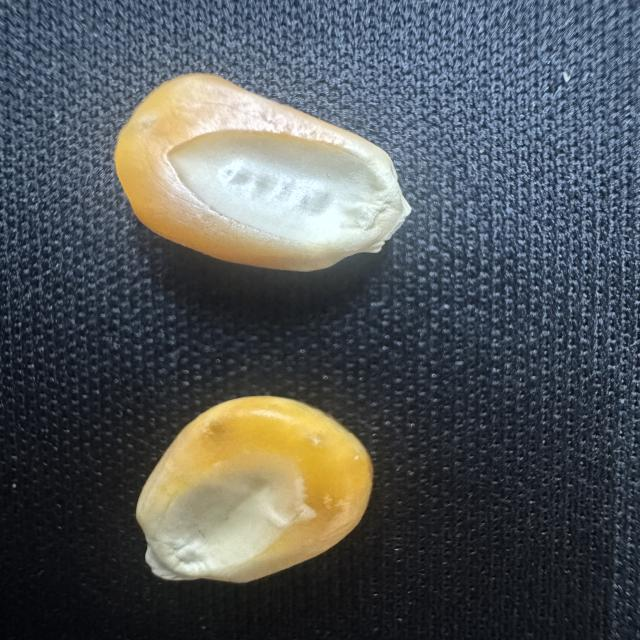Good-Seed: (100, 61, 416, 277), (115, 386, 380, 589)
